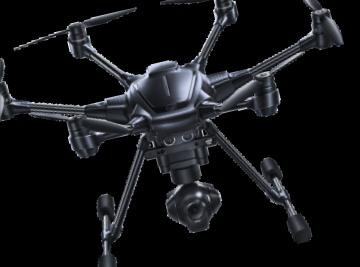drone: (0, 0, 360, 194)
